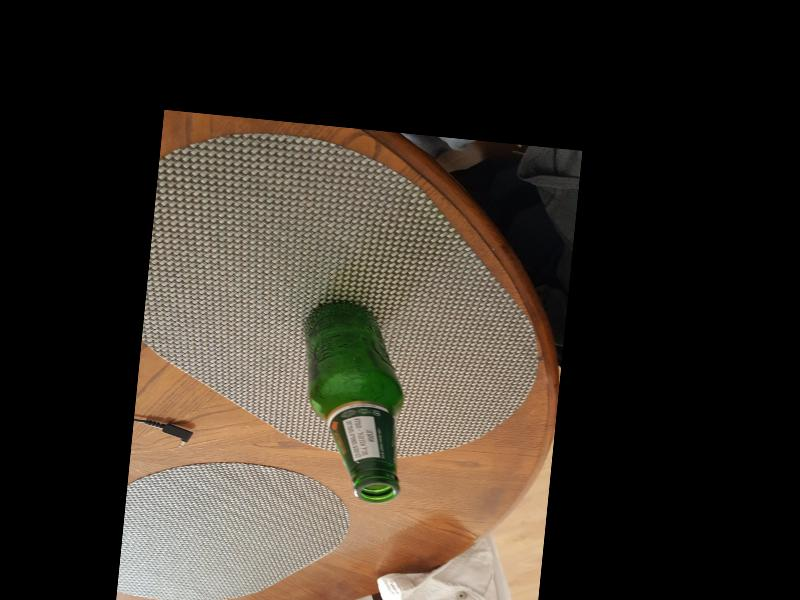Beer: (287, 298, 409, 501)
